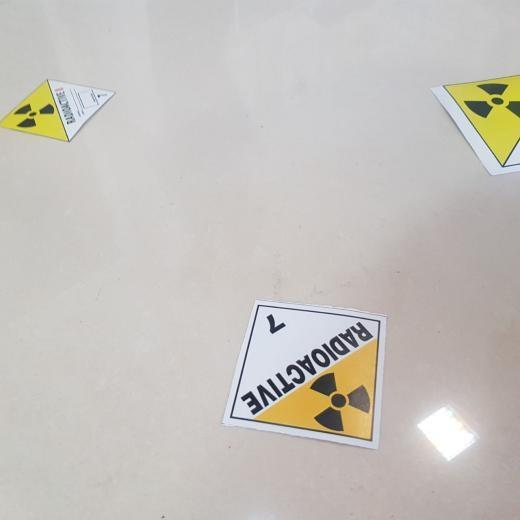radioactive: (231, 302, 382, 440), (429, 72, 519, 174), (2, 78, 117, 146)
